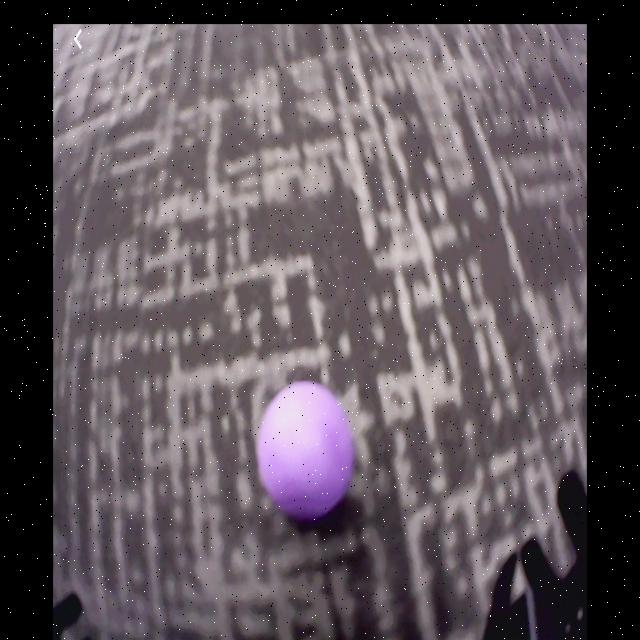ball: (258, 381, 351, 519)
